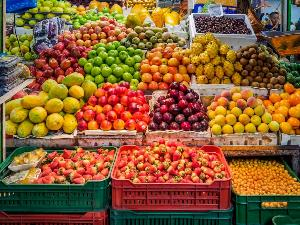apple: (28, 42, 92, 87), (83, 44, 143, 88), (140, 46, 192, 91), (61, 20, 128, 44), (15, 0, 77, 22), (75, 12, 125, 27)
kiwi: (236, 41, 286, 89)
mango: (0, 72, 92, 136)
peach: (208, 86, 276, 144), (78, 84, 146, 138)
plum: (148, 88, 209, 136)
strawberry: (113, 144, 226, 196), (46, 148, 118, 188)
